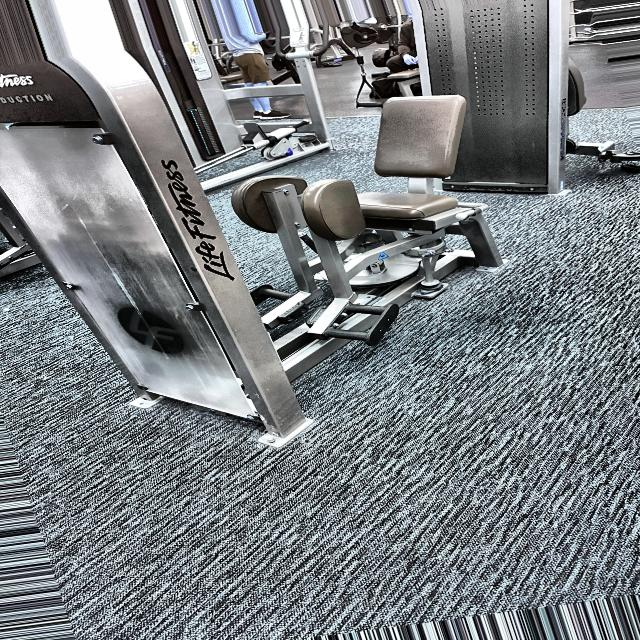hip_adduction_machine: (255, 72, 462, 373), (2, 91, 66, 112)
